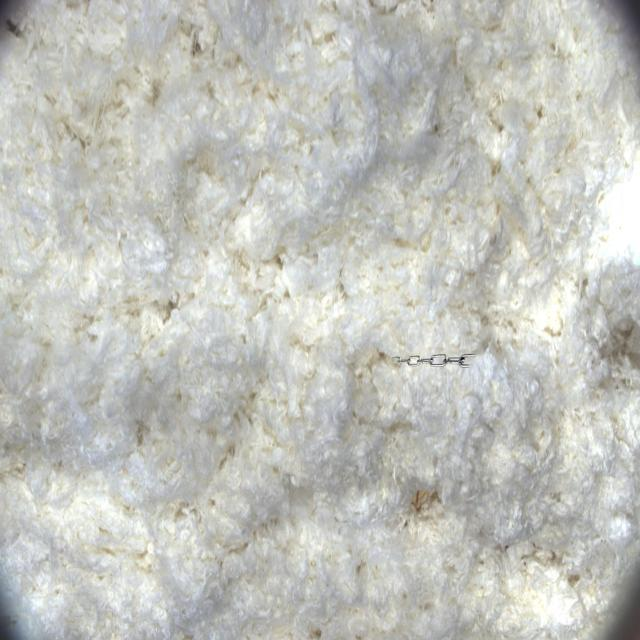dust: (385, 327, 485, 412)
